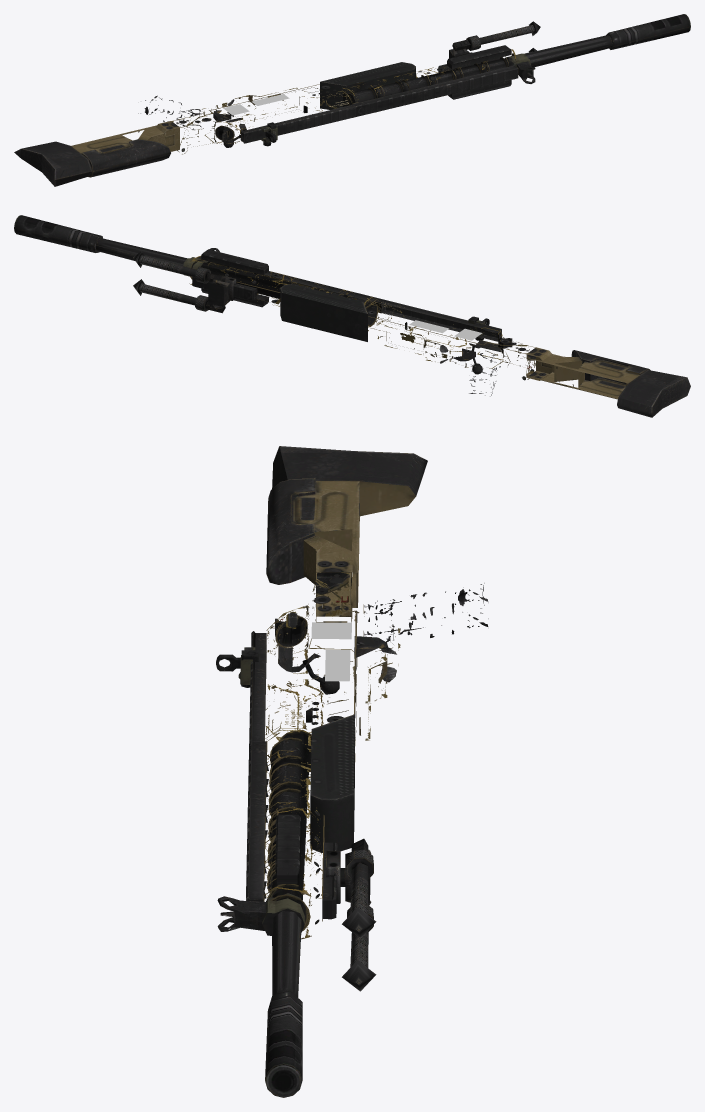
The model's file is t6_wpn_sniper_ballista_world_LOD0.obj.
The picture shows the model from 3 angles, top to bottom: view 1: azimuth 30°, elevation 25°; view 2: azimuth 150°, elevation 25°; view 3: azimuth 270°, elevation 25°; orthographic projection. The views are drawn at different scales.
Visible parts, largest first — view 1: mtl_t6_wpn_sniper_ballista_camo2, mtl_t6_wpn_sniper_ballista_camo1, mtl_t6_wpn_sniper_ballista_camo3, mtl_t6_wpn_sniper_ballista_sights; view 2: mtl_t6_wpn_sniper_ballista_camo1, mtl_t6_wpn_sniper_ballista_camo2, mtl_t6_wpn_sniper_ballista_camo3, mtl_t6_wpn_sniper_ballista_sights; view 3: mtl_t6_wpn_sniper_ballista_camo1, mtl_t6_wpn_sniper_ballista_camo2, mtl_t6_wpn_sniper_ballista_camo3, mtl_t6_wpn_sniper_ballista_sights.
Boxes of the visible parts, left/top/right/bottom form: mtl_t6_wpn_sniper_ballista_camo2: left=14, top=14, right=690, bottom=186; mtl_t6_wpn_sniper_ballista_camo1: left=71, top=21, right=540, bottom=154; mtl_t6_wpn_sniper_ballista_camo3: left=122, top=35, right=515, bottom=147; mtl_t6_wpn_sniper_ballista_sights: left=261, top=53, right=535, bottom=146; mtl_t6_wpn_sniper_ballista_camo1: left=133, top=249, right=639, bottom=399; mtl_t6_wpn_sniper_ballista_camo2: left=14, top=215, right=690, bottom=417; mtl_t6_wpn_sniper_ballista_camo3: left=191, top=253, right=589, bottom=381; mtl_t6_wpn_sniper_ballista_sights: left=183, top=248, right=489, bottom=340; mtl_t6_wpn_sniper_ballista_camo1: left=246, top=481, right=415, bottom=991; mtl_t6_wpn_sniper_ballista_camo2: left=265, top=446, right=488, bottom=1097; mtl_t6_wpn_sniper_ballista_camo3: left=246, top=527, right=373, bottom=938; mtl_t6_wpn_sniper_ballista_sights: left=216, top=647, right=304, bottom=935.
Bounding box in the file's own units: 120 × 8.24 × 22.34.
